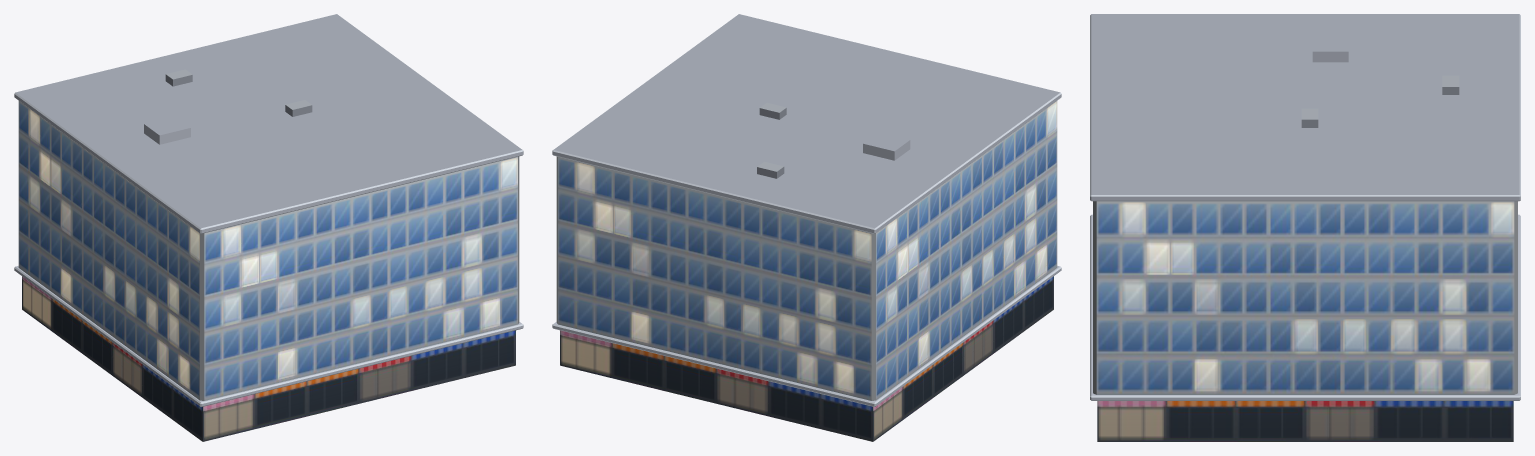
File: building-36x36x24.glb
3 views of the same model, side by side, from view 1: azimuth 30°, elevation 25°; view 2: azimuth 150°, elevation 25°; view 3: azimuth 270°, elevation 25° (orthographic). The views are drawn at different scales.
Parts seen in each view (by area): view 1: building-36x36x24; view 2: building-36x36x24; view 3: building-36x36x24.
Part boxes in pixels (<box>): building-36x36x24: <box>14,14,523,441</box>; building-36x36x24: <box>552,14,1061,441</box>; building-36x36x24: <box>1090,14,1520,441</box>.
Bounding box in the file's own units: 36 × 24 × 36.
1 material, 1 textured.
